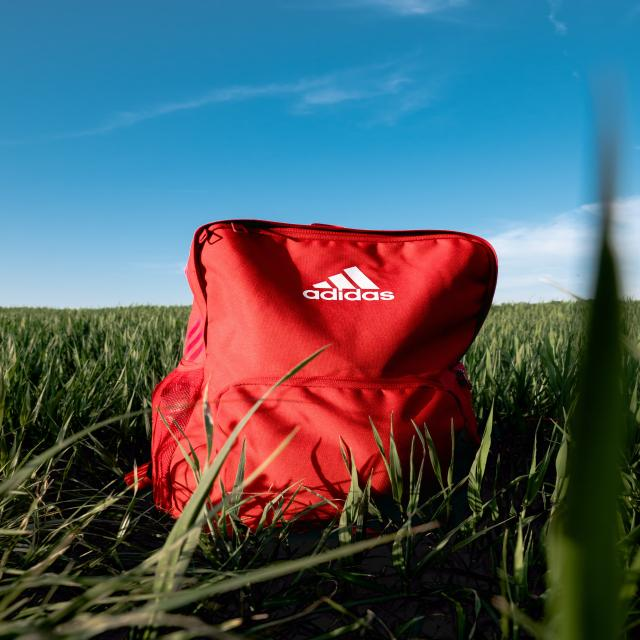backpack: (143, 208, 509, 526)
